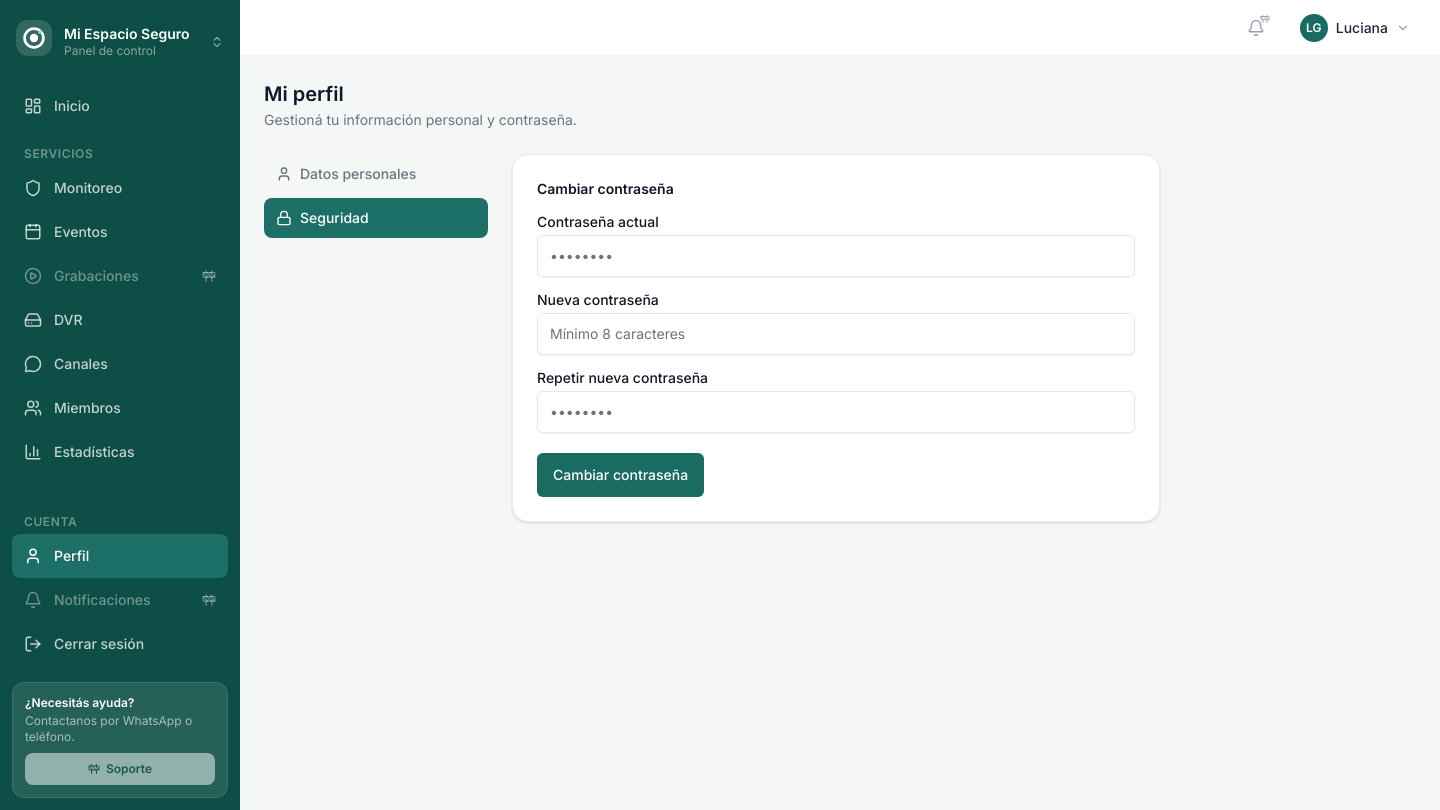
ProfilePage › switches section through ?tab
This screenshot has width=1440, height=810.
Expected: the password field labelled "Contraseña actual" is shown, [537, 235, 1135, 277]
Click the tab "Datos personales" at (376, 174), box [264, 154, 488, 194]
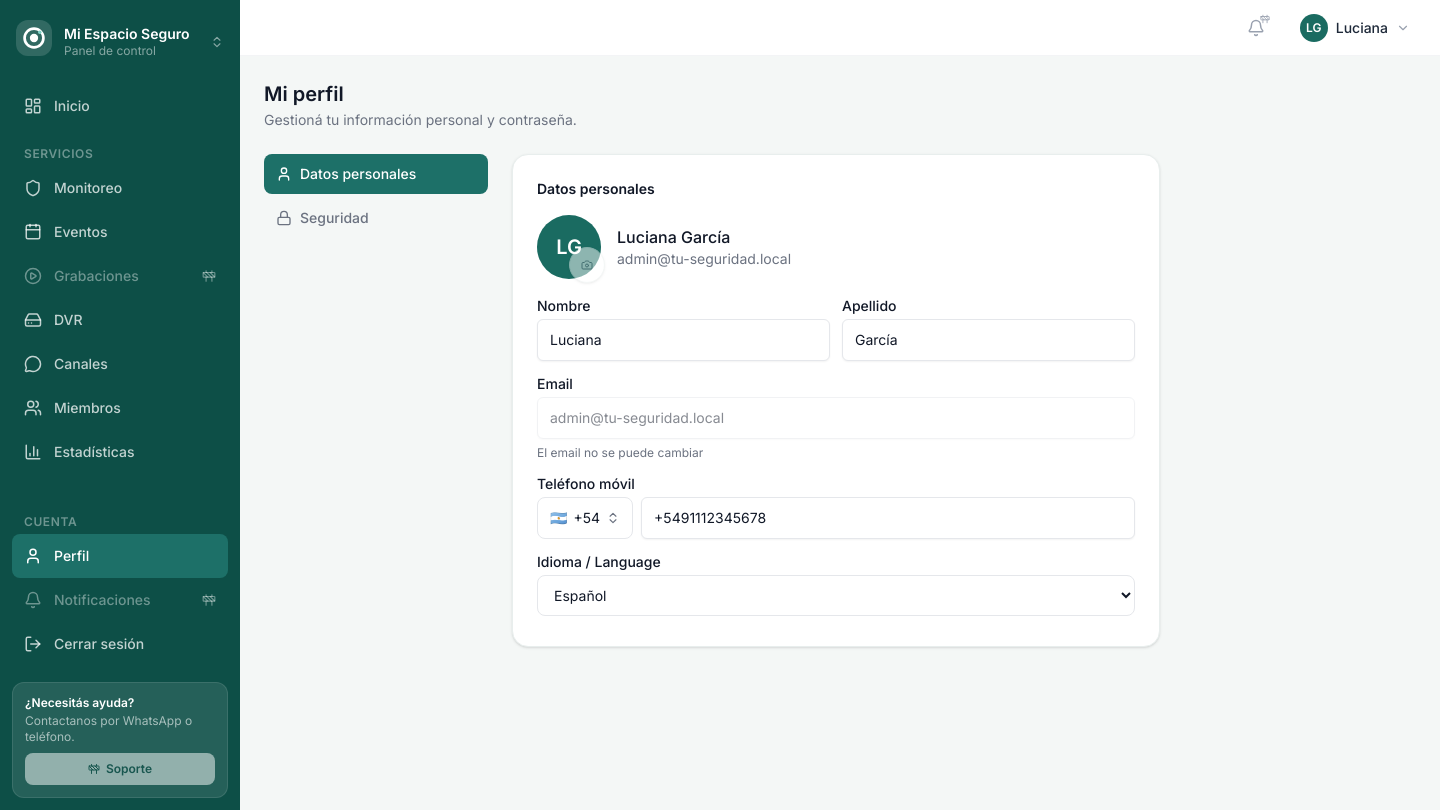
Expected: the field labelled "Nombre" is shown, [537, 319, 830, 361]
